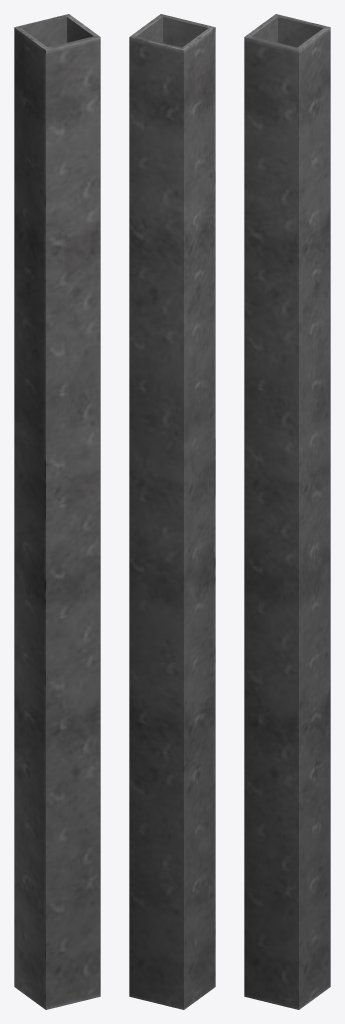
Rendered from TubeQuad_g.gltf.
3 views of the same model, side by side, from view 1: azimuth 30°, elevation 25°; view 2: azimuth 150°, elevation 25°; view 3: azimuth 330°, elevation 25° (orthographic).
Visible parts, largest first — view 1: WRectangle003; view 2: WRectangle003; view 3: WRectangle003.
Part boxes in pixels (<box>): WRectangle003: <box>14,14,100,1009</box>; WRectangle003: <box>129,14,215,1009</box>; WRectangle003: <box>244,14,330,1009</box>.
Size of the model in its own units: 0.06 by 1 by 0.06.
Materials: 1 (1 with a texture image).
